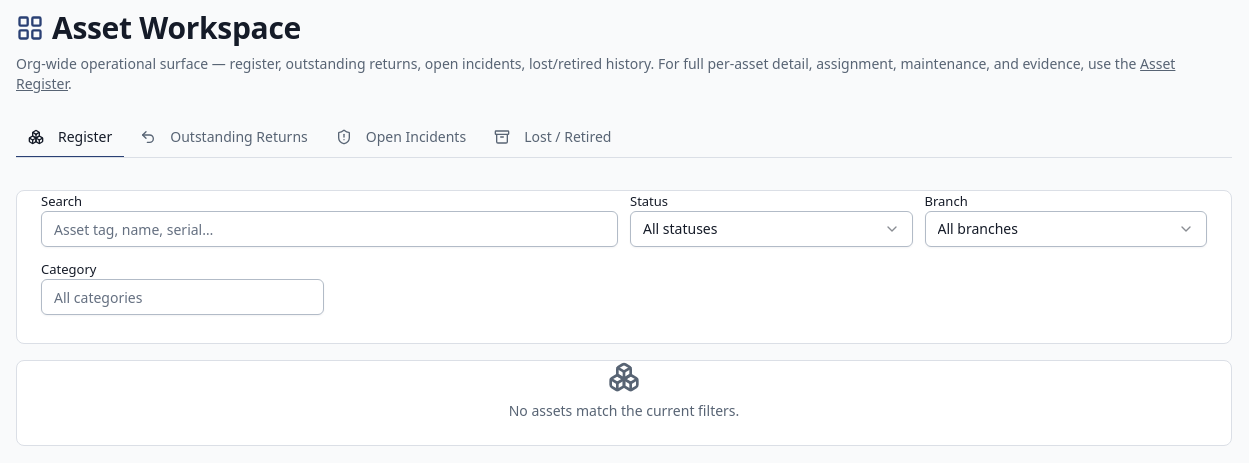
Test: Asset Workspace page › Outstanding Returns tab › shows an empty state when nothing is outstanding
The image size is (1249, 463).
Click the tab with test id "tab-workspace-outstanding" at (224, 138), box [128,118,320,158]
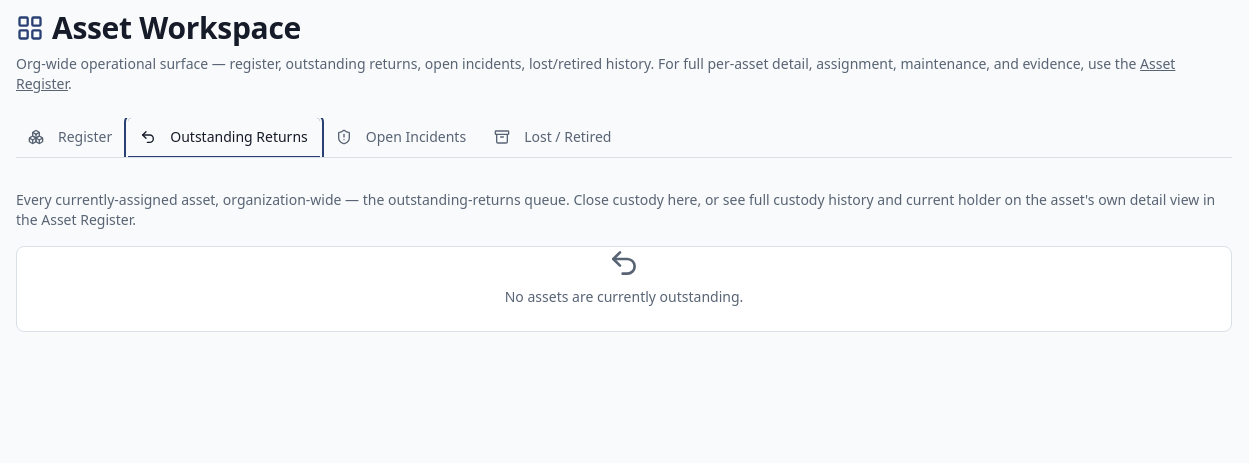
Expected: the text "No assets are currently outstanding." is shown, [505,287,743,307]
